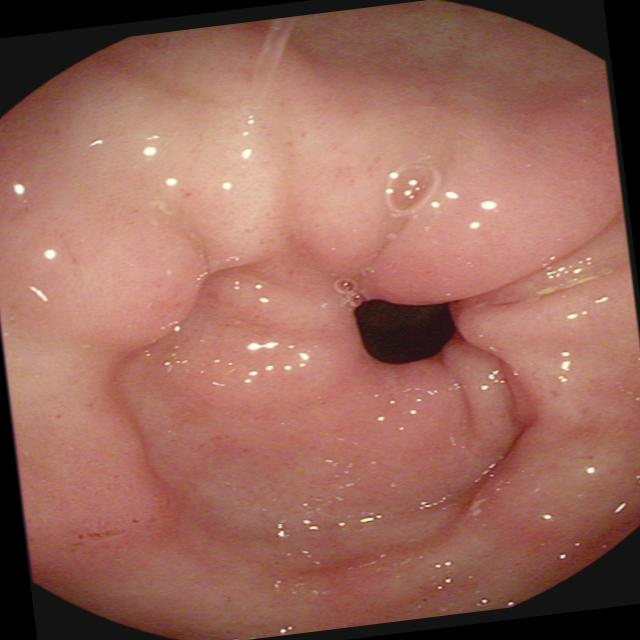normal-pylorus: (0, 4, 623, 599)
